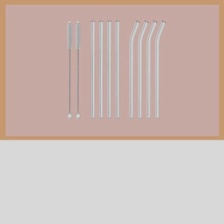drinking_straw: (151, 18, 169, 120), (113, 19, 122, 119)
